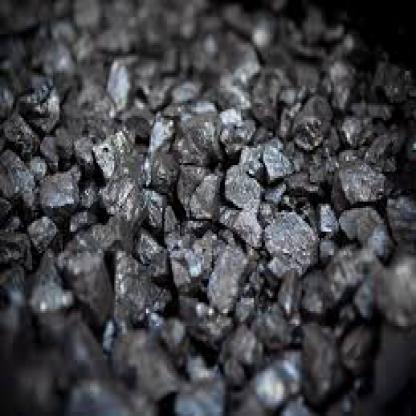Sedimentary_coal: (58, 242, 117, 320), (260, 208, 315, 283), (331, 152, 384, 214), (201, 230, 239, 300), (224, 157, 266, 214), (37, 161, 79, 210), (183, 107, 219, 161), (92, 129, 128, 182), (141, 107, 177, 159)
